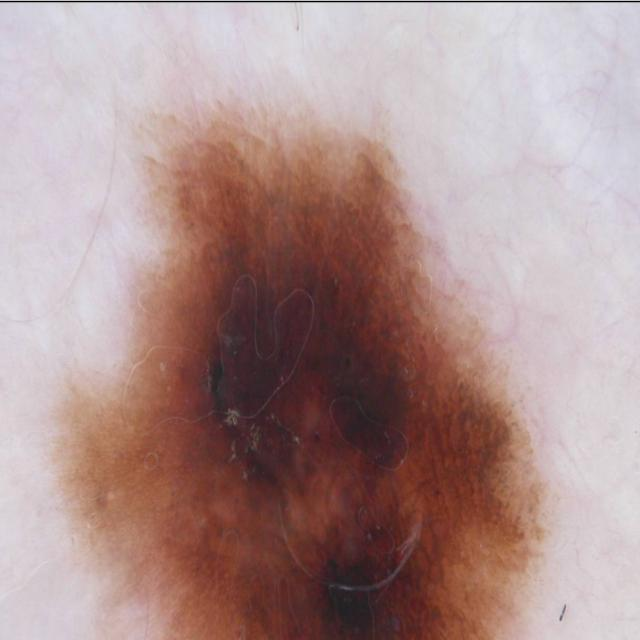Melanoma: (37, 81, 586, 640)
